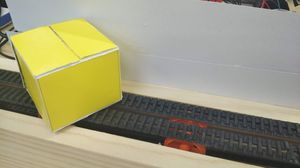box4: (8, 17, 123, 131)
